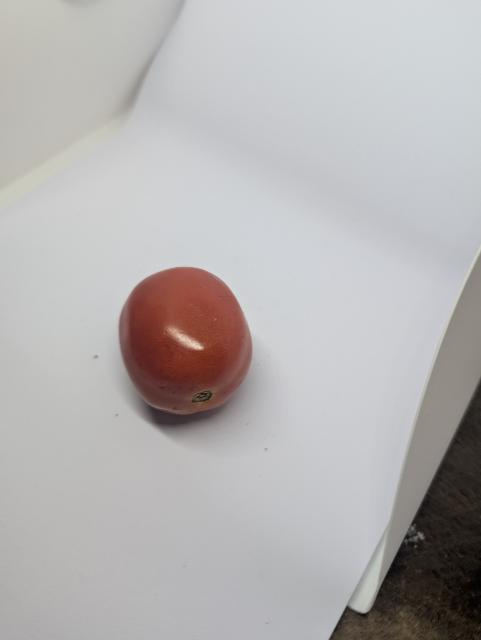red: (115, 263, 257, 419)
